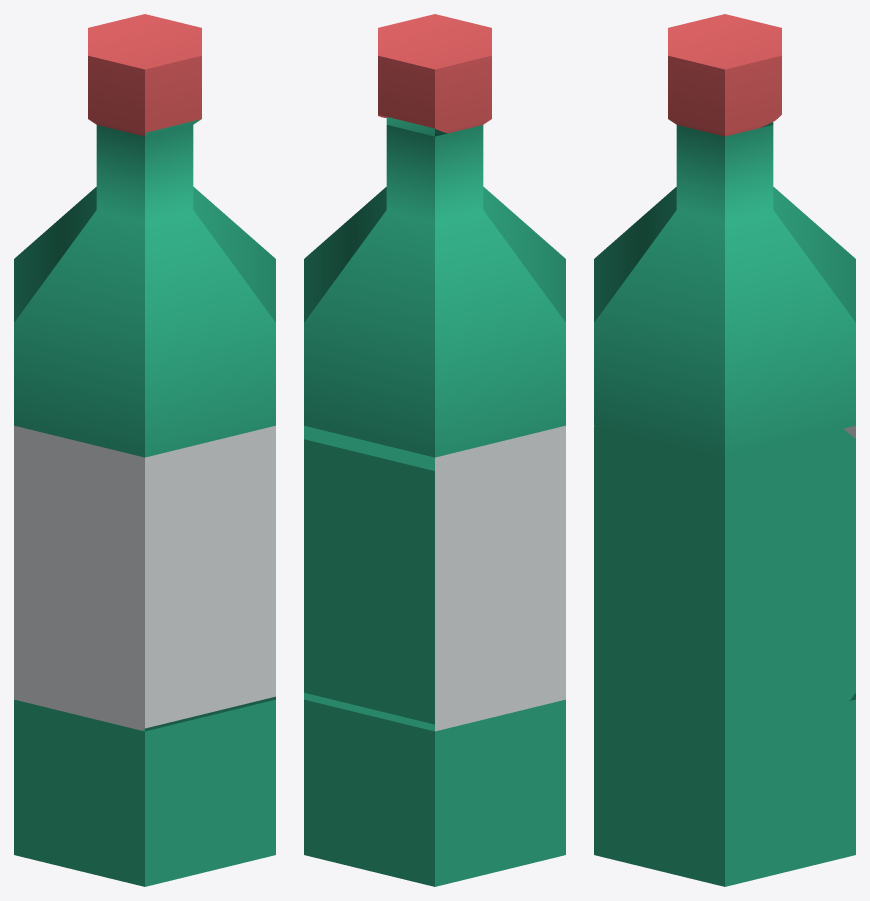
The model's file is Juice_Mesh.fbx.
The picture shows the model from 3 angles, left to right: view 1: azimuth 30°, elevation 25°; view 2: azimuth 150°, elevation 25°; view 3: azimuth 270°, elevation 25°; orthographic projection.
Parts seen in each view (by area): view 1: pCylinder1; view 2: pCylinder1; view 3: pCylinder1.
Boxes of the visible parts, bbox=[...] form: pCylinder1: bbox=[14, 14, 275, 886]; pCylinder1: bbox=[304, 14, 565, 886]; pCylinder1: bbox=[594, 14, 855, 886].
Size of the model in its own units: 2 by 5.7 by 1.73.
